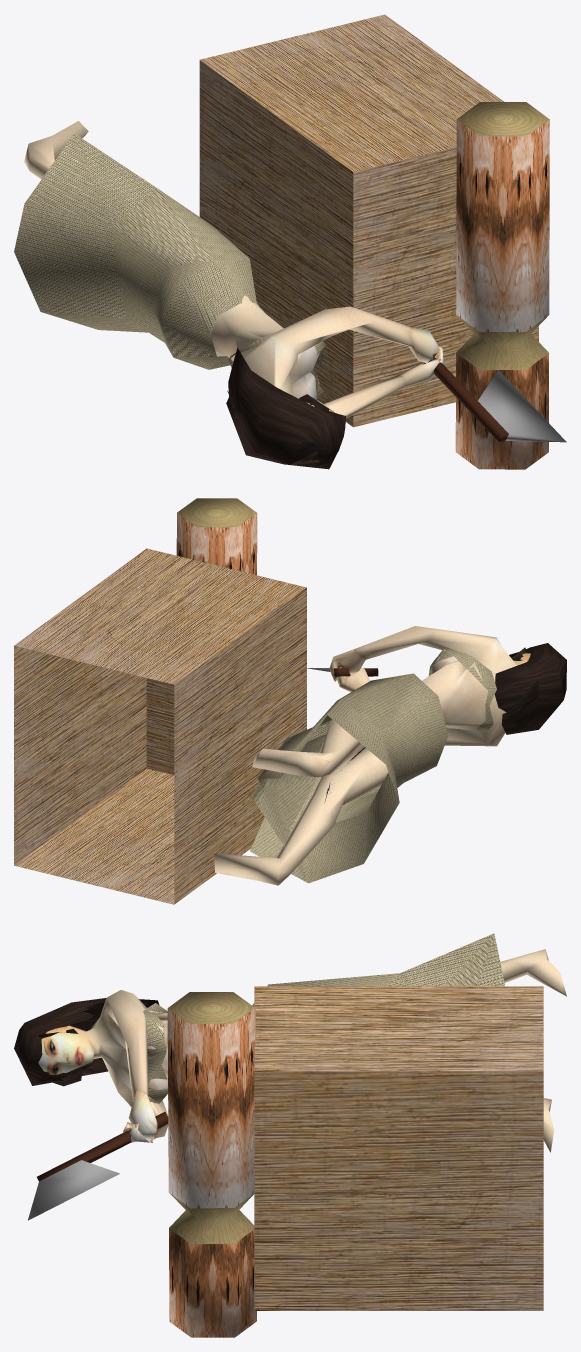
Rendered from worker_000619.obj.
3 renders of one model, top to bottom at view 1: azimuth 30°, elevation 25°; view 2: azimuth 150°, elevation 25°; view 3: azimuth 270°, elevation 25°, orthographic. The views are drawn at different scales.
Visible parts, largest first — view 1: cube_Cube, saree_Cylinder, log_Cylinder.003, body.001_omino.012, hair.003_omino.013, axe_Cylinder.001; view 2: cube_Cube, saree_Cylinder, body.001_omino.012, log_Cylinder.003, hair.003_omino.013; view 3: cube_Cube, log_Cylinder.003, body.001_omino.012, saree_Cylinder, hair.003_omino.013, axe_Cylinder.001.
Part boxes in pixels (left/top/right/bottom): cube_Cube: left=199, top=14, right=538, bottom=427; saree_Cylinder: left=14, top=133, right=326, bottom=399; log_Cylinder.003: left=455, top=102, right=549, bottom=469; body.001_omino.012: left=24, top=121, right=443, bottom=461; hair.003_omino.013: left=226, top=347, right=345, bottom=469; axe_Cylinder.001: left=424, top=356, right=566, bottom=442; cube_Cube: left=14, top=548, right=306, bottom=904; saree_Cylinder: left=250, top=648, right=496, bottom=883; body.001_omino.012: left=214, top=626, right=530, bottom=885; log_Cylinder.003: left=176, top=498, right=257, bottom=575; hair.003_omino.013: left=494, top=643, right=566, bottom=734; cube_Cube: left=254, top=986, right=543, bottom=1310; log_Cylinder.003: left=167, top=992, right=256, bottom=1337; body.001_omino.012: left=38, top=949, right=566, bottom=1152; saree_Cylinder: left=143, top=933, right=504, bottom=1103; hair.003_omino.013: left=14, top=998, right=159, bottom=1086; axe_Cylinder.001: left=28, top=1112, right=168, bottom=1220.
Size of the model in its own units: 2.15 by 1.68 by 2.68.
